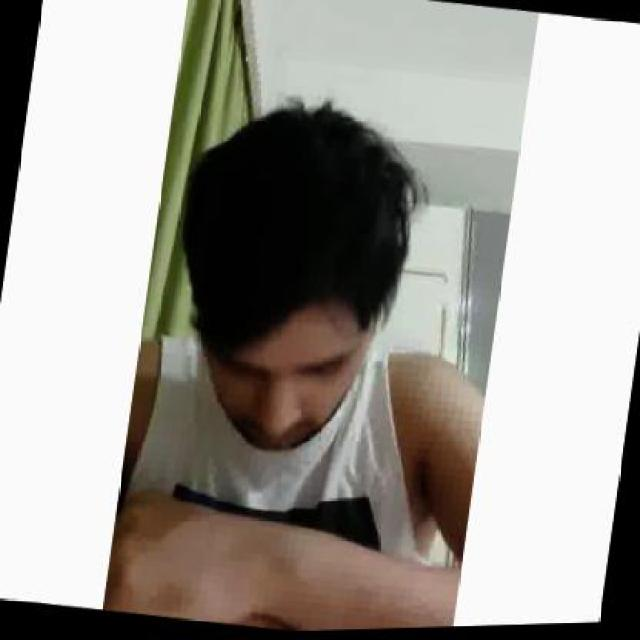inattentif: (156, 88, 404, 469)
